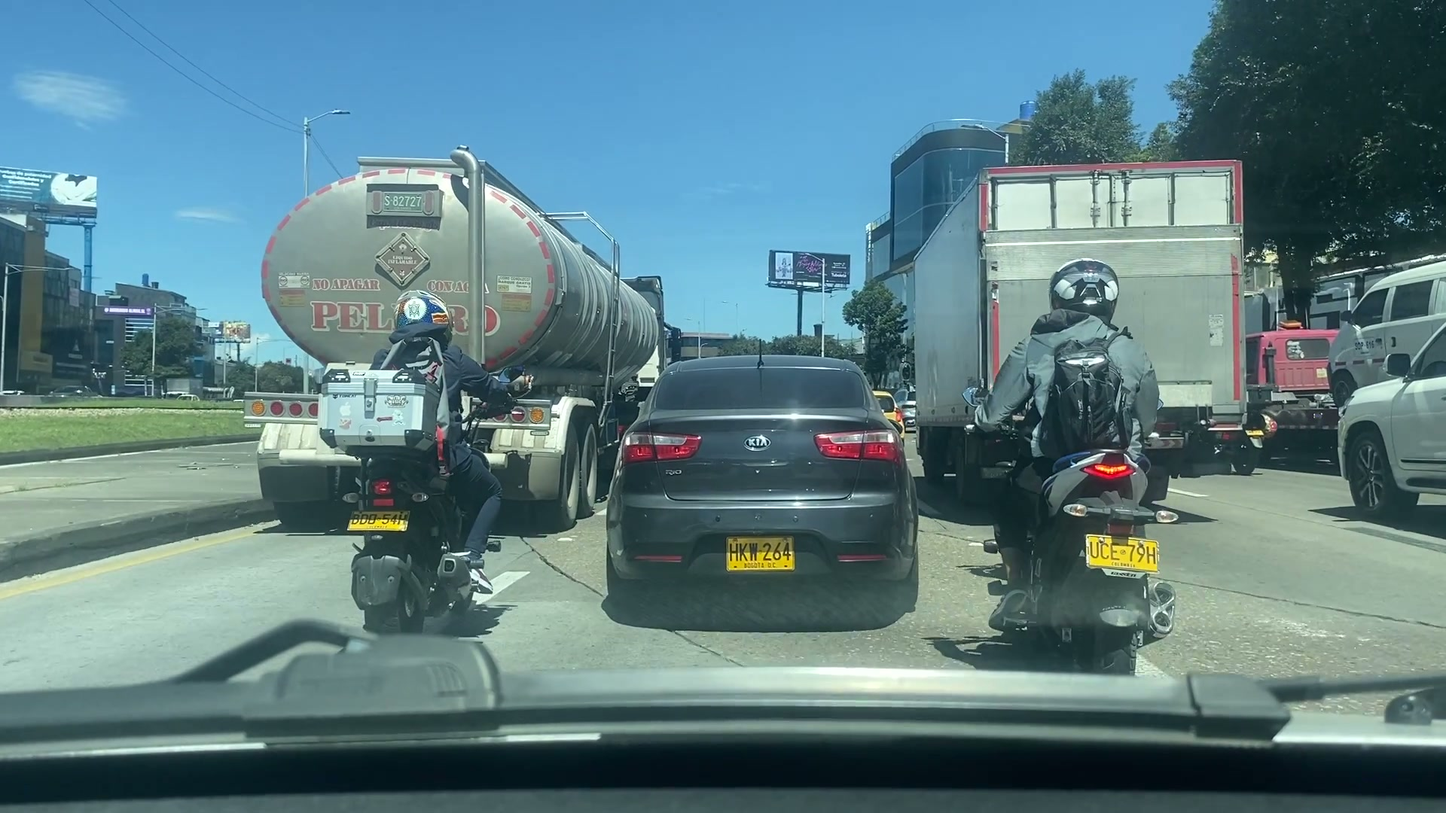car: (598, 356, 922, 615), (1338, 323, 1446, 525), (1314, 254, 1446, 400)
motorcycle: (995, 452, 1191, 688), (344, 456, 519, 636)
person: (977, 259, 1176, 628), (375, 285, 506, 603)
truck: (264, 145, 669, 540), (921, 159, 1246, 474), (1248, 320, 1339, 457)
